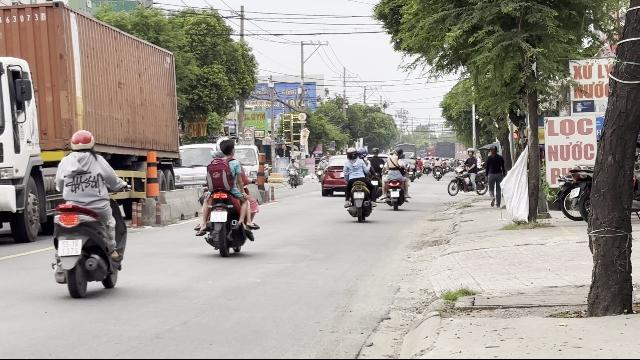helmet: (69, 130, 95, 152)
licenseplate: (58, 240, 82, 256), (210, 212, 226, 222)
motorcyclist: (45, 128, 128, 296), (193, 135, 259, 255)
nohelmet: (216, 138, 236, 158)
